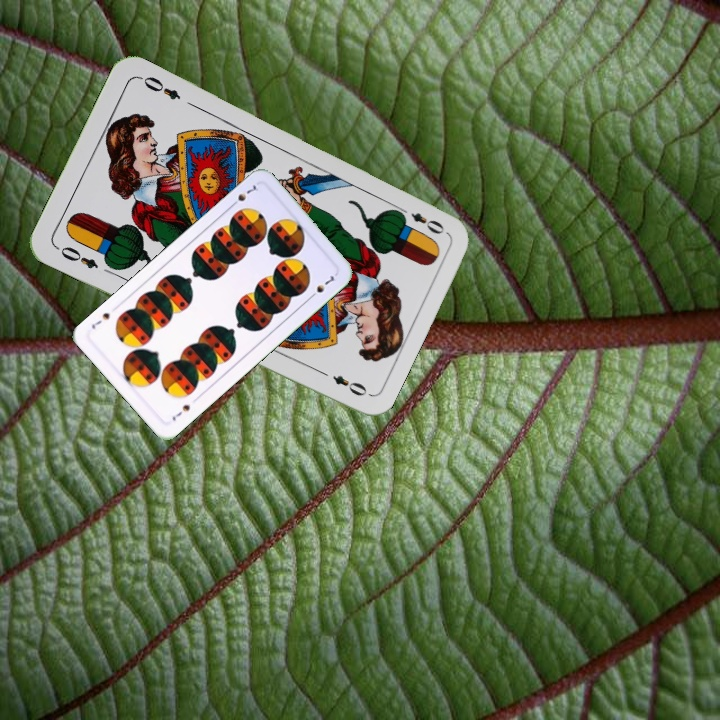EO: (393, 202, 447, 237), (52, 242, 101, 272)
S7: (226, 179, 261, 210), (168, 401, 193, 424)
